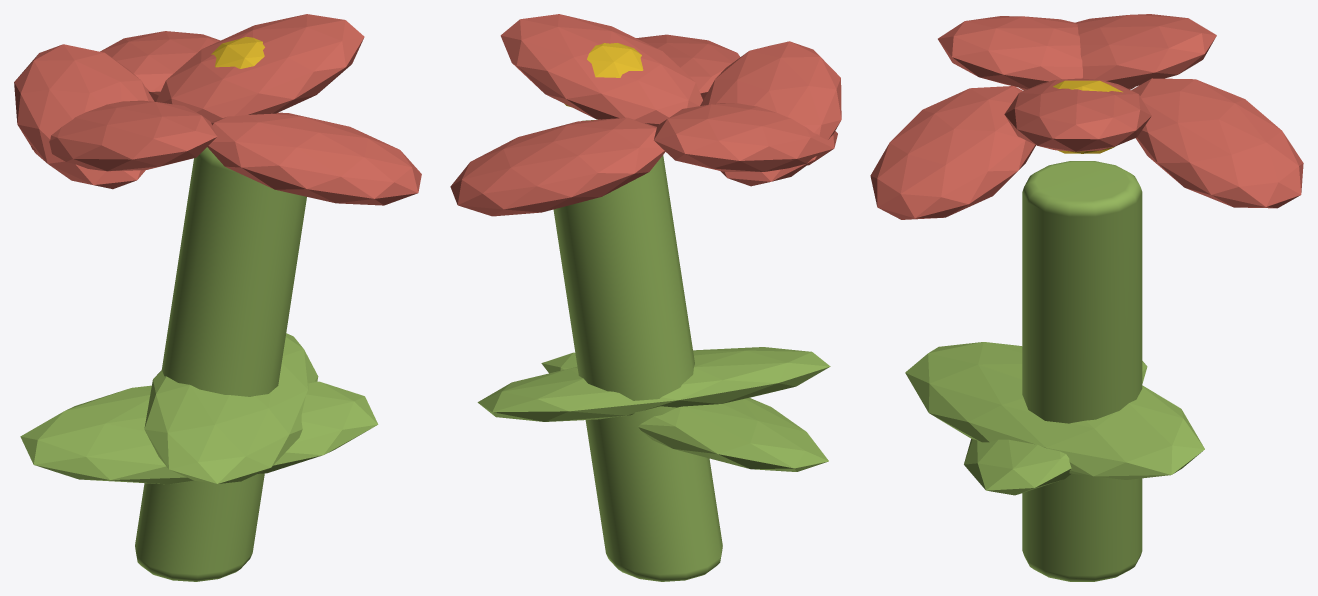
The model's file is prop_flowers_red.glb.
3 views of the same model, side by side, from view 1: azimuth 30°, elevation 25°; view 2: azimuth 150°, elevation 25°; view 3: azimuth 270°, elevation 25° (orthographic).
Parts seen in each view (by area): view 1: fre_stem, fre_leaf1, fre_leaf0, fre_petal2, fre_petal0, fre_petal1, fre_petal4, fre_petal3, fre_center; view 2: fre_stem, fre_petal3, fre_petal0, fre_leaf0, fre_leaf1, fre_petal1, fre_petal4, fre_petal2, fre_center; view 3: fre_stem, fre_leaf0, fre_petal3, fre_petal2, fre_petal4, fre_petal1, fre_petal0, fre_leaf1, fre_center.
Boxes of the visible parts, x1,y1,x2,y2 form: fre_stem: [135, 147, 306, 581]; fre_leaf1: [20, 381, 378, 484]; fre_leaf0: [144, 333, 318, 483]; fre_petal2: [207, 112, 421, 205]; fre_petal0: [156, 14, 364, 121]; fre_petal1: [14, 44, 154, 189]; fre_petal4: [31, 100, 217, 171]; fre_petal3: [100, 31, 220, 101]; fre_center: [211, 36, 264, 68]; fre_stem: [553, 119, 722, 581]; fre_petal3: [450, 117, 665, 216]; fre_petal0: [500, 14, 702, 126]; fre_leaf0: [477, 347, 830, 421]; fre_leaf1: [541, 352, 828, 471]; fre_petal1: [654, 103, 837, 171]; fre_petal4: [700, 41, 841, 186]; fre_petal2: [636, 34, 740, 99]; fre_center: [565, 43, 643, 107]; fre_stem: [1022, 161, 1142, 581]; fre_leaf0: [905, 342, 1204, 479]; fre_petal3: [1131, 78, 1303, 208]; fre_petal2: [870, 86, 1035, 219]; fre_petal4: [938, 16, 1134, 89]; fre_petal1: [1019, 14, 1216, 90]; fre_petal0: [1004, 78, 1151, 151]; fre_leaf1: [964, 361, 1147, 495]; fre_center: [1053, 80, 1122, 153].
Bounding box in the file's own units: 0.236 × 0.3583 × 0.2744.
